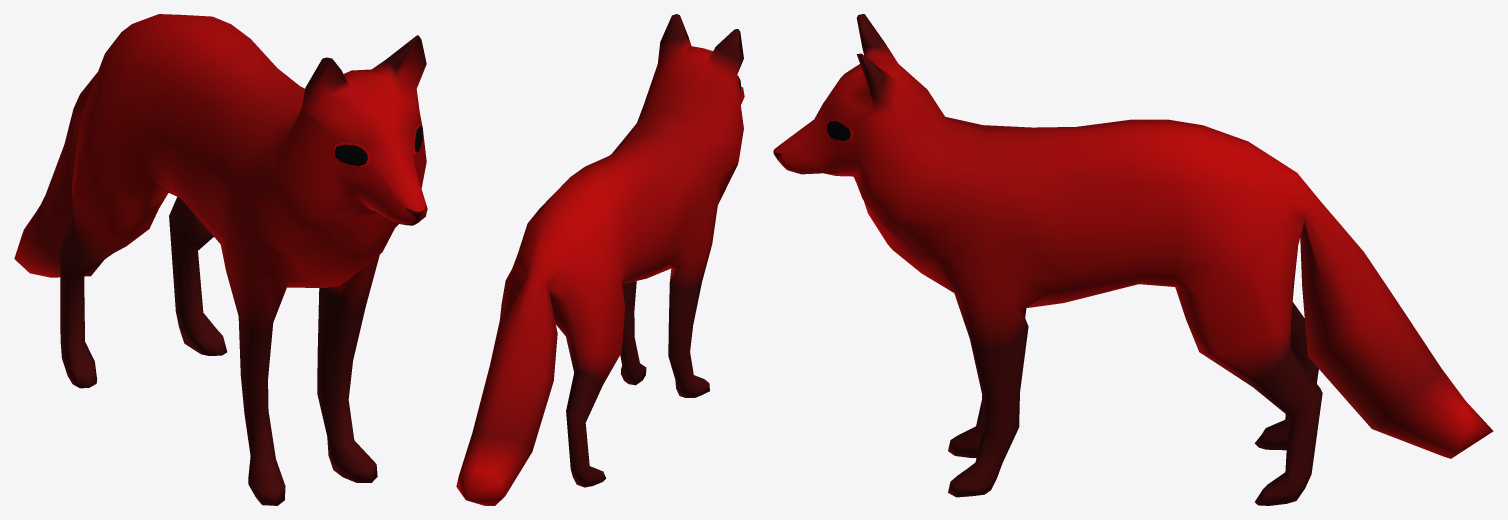
File: Animals_RedFox.fbx
3 renders of one model, left to right at view 1: azimuth 30°, elevation 25°; view 2: azimuth 150°, elevation 25°; view 3: azimuth 270°, elevation 25°, orthographic. The views are drawn at different scales.
Visible parts, largest first — view 1: base; view 2: base; view 3: base.
Boxes of the visible parts, <box> form: base: <box>14,14,427,505</box>; base: <box>456,14,744,505</box>; base: <box>773,14,1493,505</box>.
Bounding box in the file's own units: 25.49 × 78.35 × 117.
